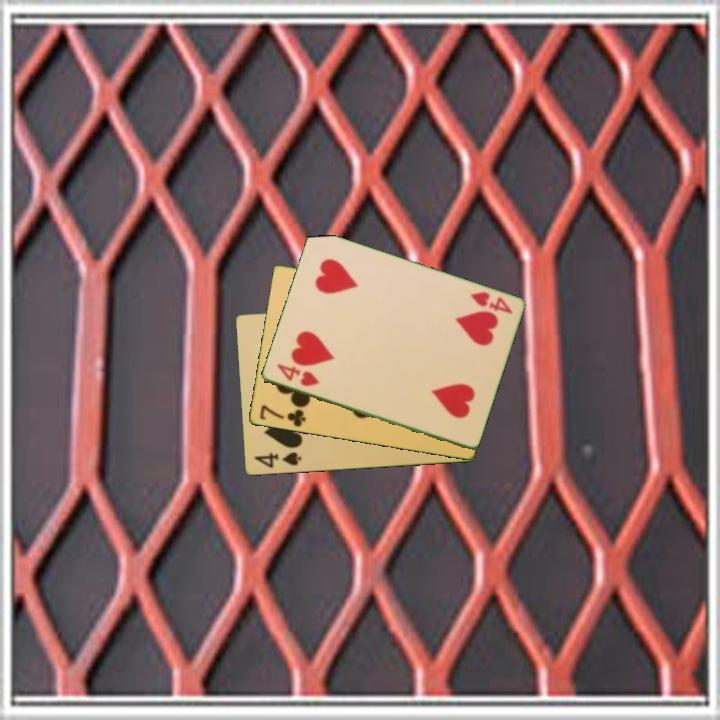4h: (272, 360, 322, 389), (467, 288, 515, 317)
4s: (251, 449, 304, 471)
7c: (256, 402, 308, 430)
